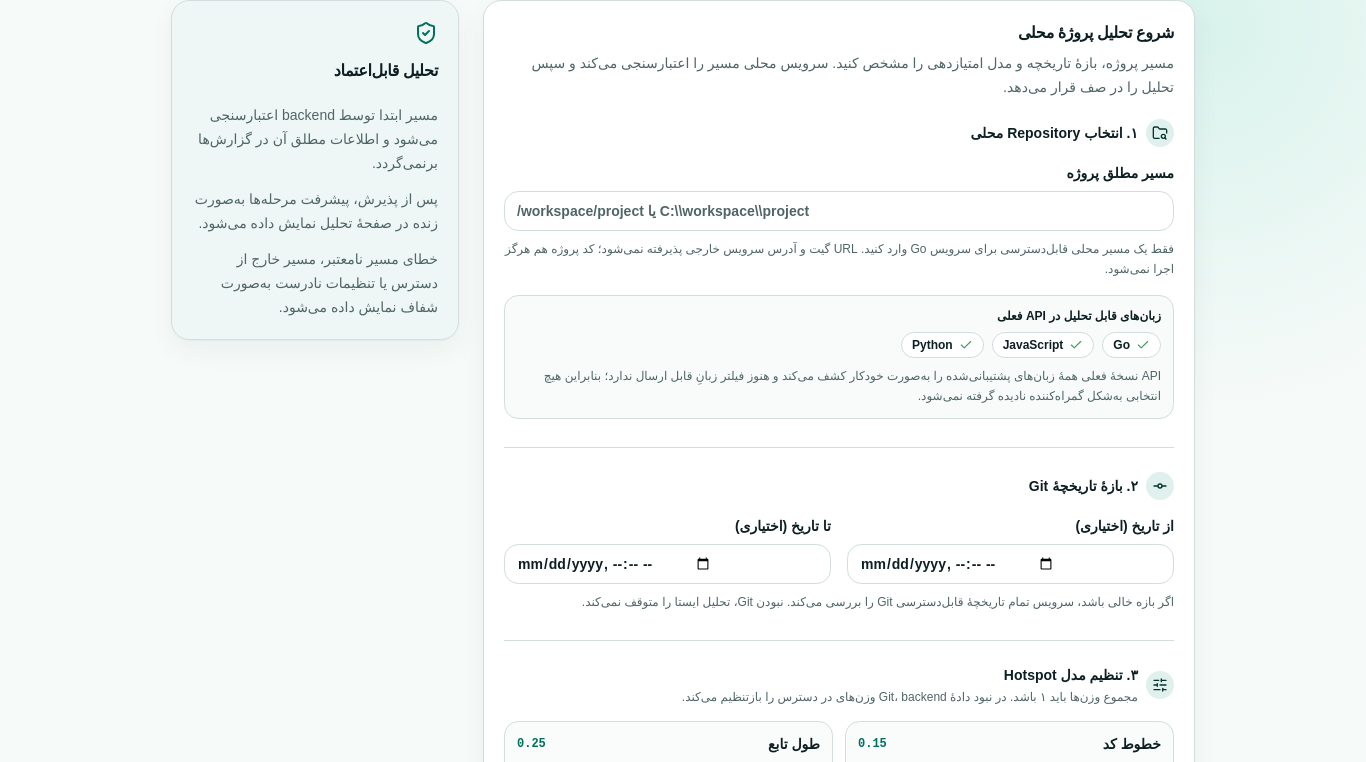
Test case: analysis start integration › does not start analysis when backend path validation rejects the project
Type "/outside/allowed-root" into the field labelled "مسیر مطلق پروژه" at [839, 211], box [504,191,1174,231]
(page scrolled)
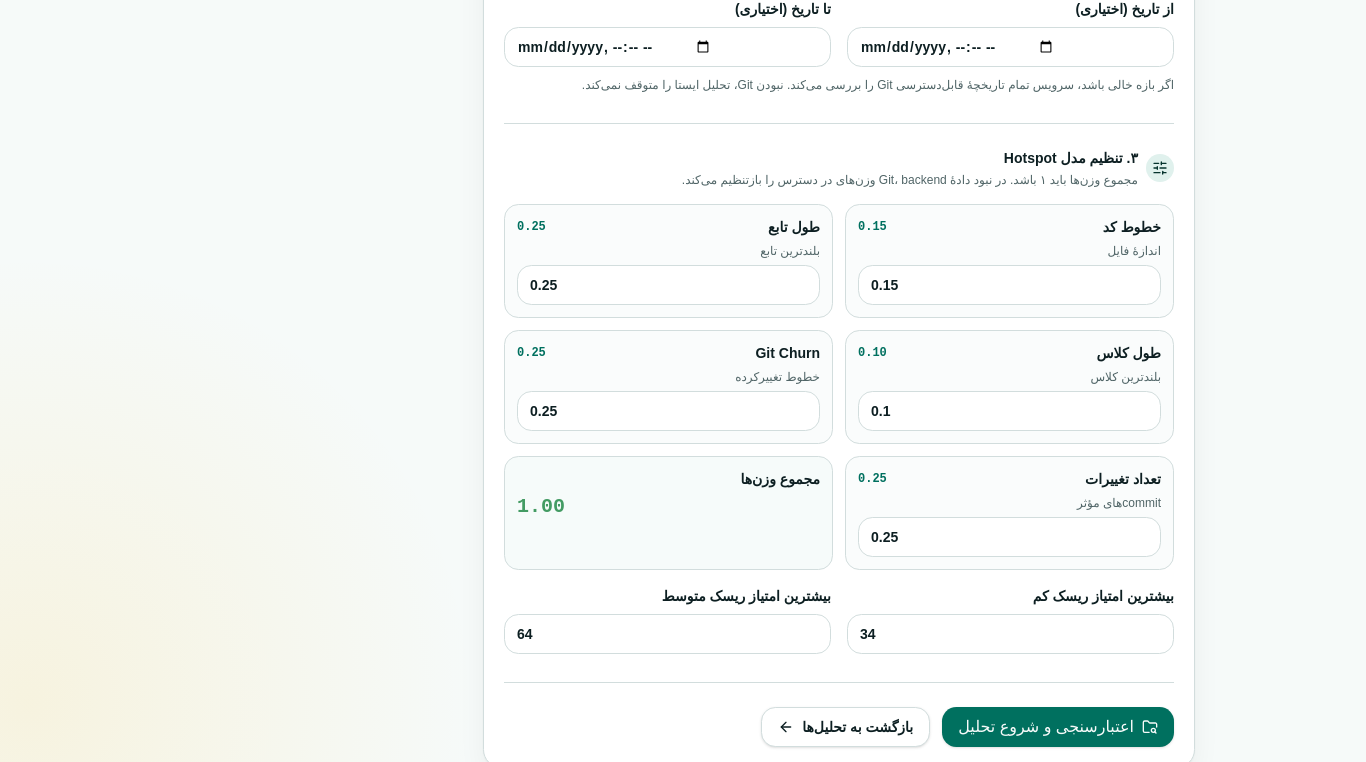
Click the button "اعتبارسنجی و شروع تحلیل" at [1058, 727], box [942,707,1174,747]
(page scrolled)
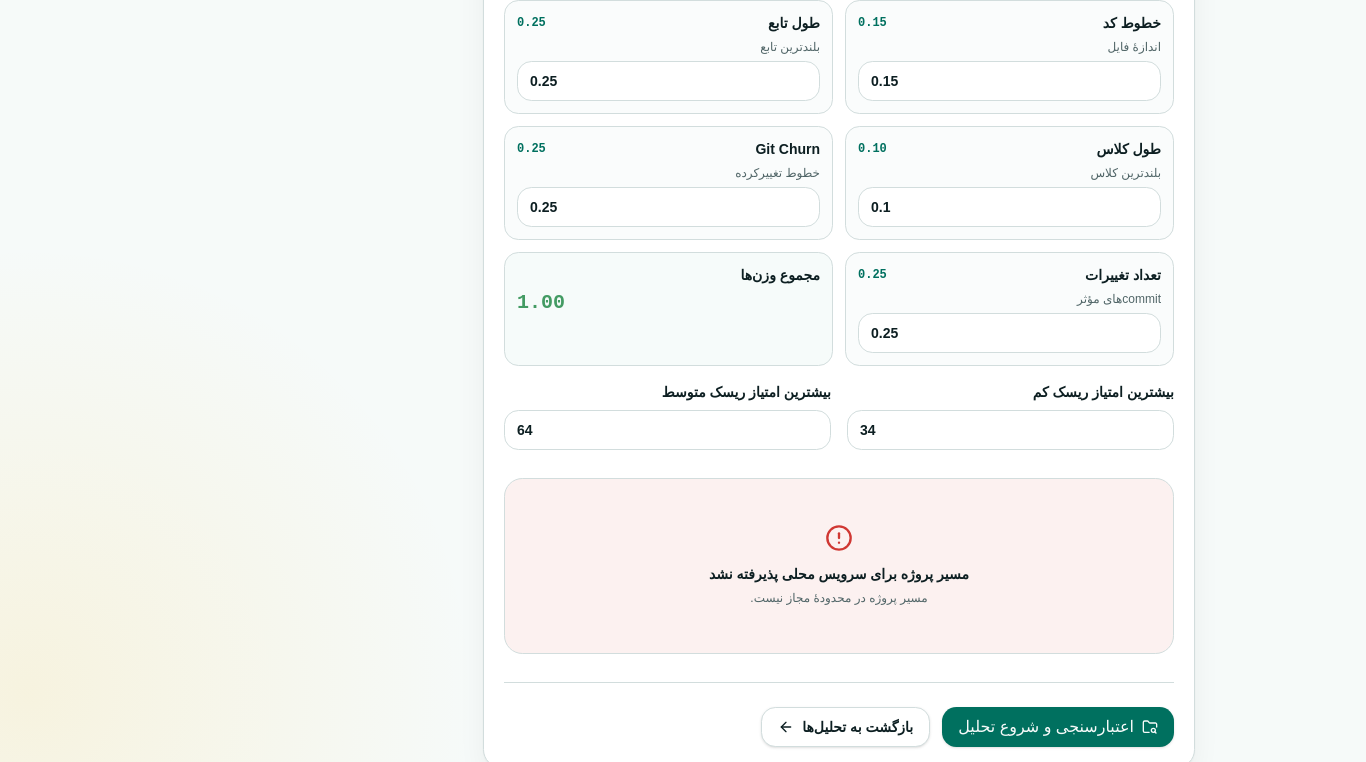
Check: the text "مسیر پروژه در محدودهٔ مجاز نیست." is shown, box [750,588,928,608]
